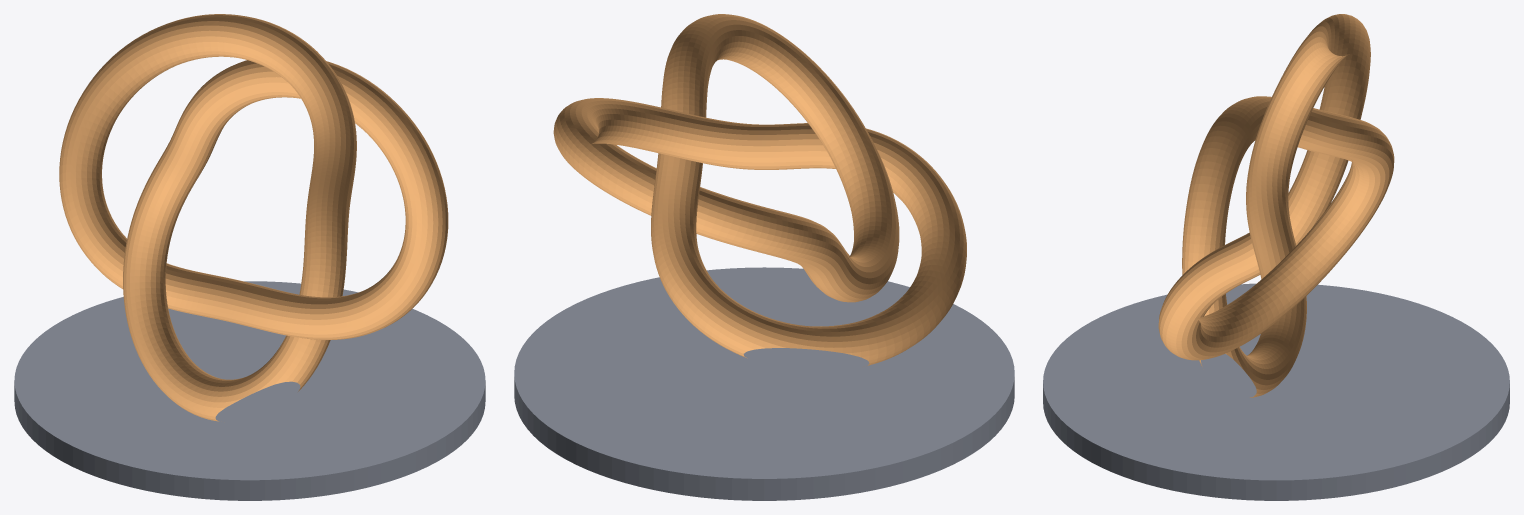
The model's file is studio-knot-demo.glb.
3 views of the same model, side by side, from view 1: azimuth 30°, elevation 25°; view 2: azimuth 150°, elevation 25°; view 3: azimuth 270°, elevation 25° (orthographic). The views are drawn at different scales.
Visible parts, largest first — view 1: Copper knot, Display plinth; view 2: Display plinth, Copper knot; view 3: Display plinth, Copper knot.
Boxes of the visible parts, x1=… form: Copper knot: x1=59, y1=14, x2=448, y2=421; Display plinth: x1=14, y1=281, x2=485, y2=500; Display plinth: x1=514, y1=267, x2=1014, y2=500; Copper knot: x1=553, y1=14, x2=966, y2=365; Display plinth: x1=1043, y1=283, x2=1509, y2=500; Copper knot: x1=1158, y1=14, x2=1394, y2=397.
Bounding box in the file's own units: 3.3 × 2.86 × 3.3.
